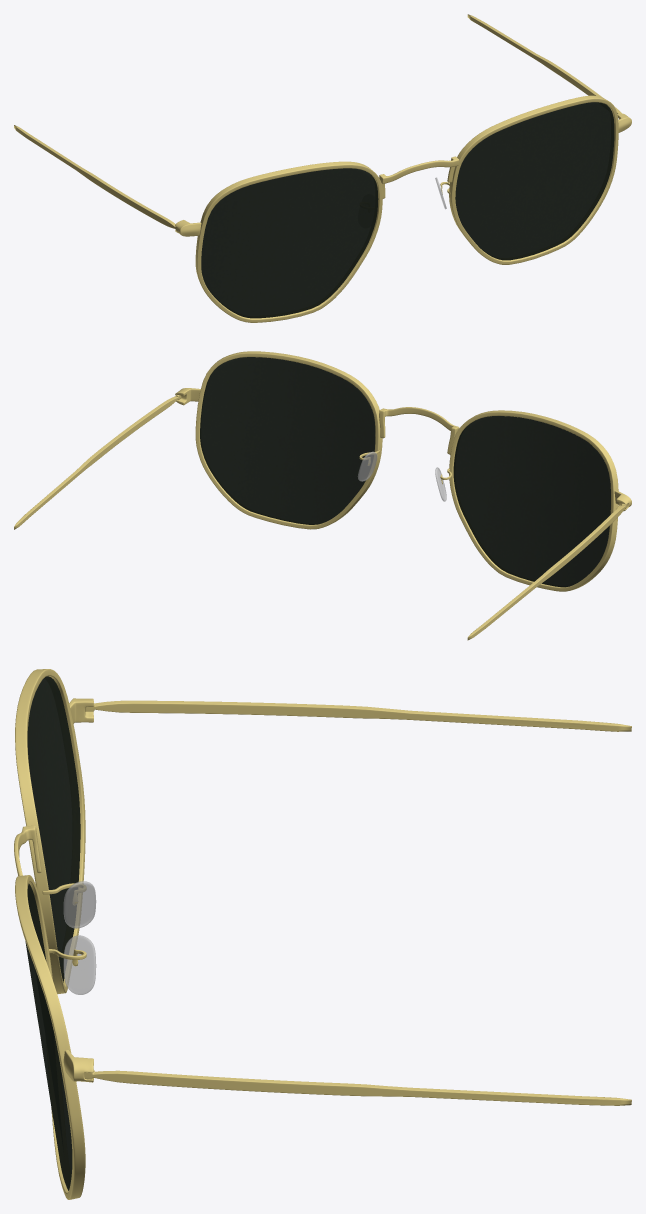
Rendered from Hexagonal.gltf.
The picture shows the model from 3 angles, top to bottom: view 1: azimuth 30°, elevation 25°; view 2: azimuth 150°, elevation 25°; view 3: azimuth 270°, elevation 25°; orthographic projection. The views are drawn at different scales.
Parts seen in each view (by area): view 1: Lentes, aramacao; view 2: Lentes, aramacao, Ponte; view 3: aramacao, Lentes, Ponte.
Boxes of the visible parts, x1,y1,x2,y2 form: Lentes: (201, 102, 614, 318); aramacao: (14, 14, 631, 322); Lentes: (200, 357, 610, 587); aramacao: (14, 351, 631, 640); Ponte: (357, 451, 446, 501); aramacao: (14, 669, 631, 1199); Lentes: (25, 676, 80, 1190); Ponte: (63, 881, 96, 994).
Size of the model in its own units: 0.1579 by 0.0519 by 0.1083.
Materials: 3 (3 with a texture image).
